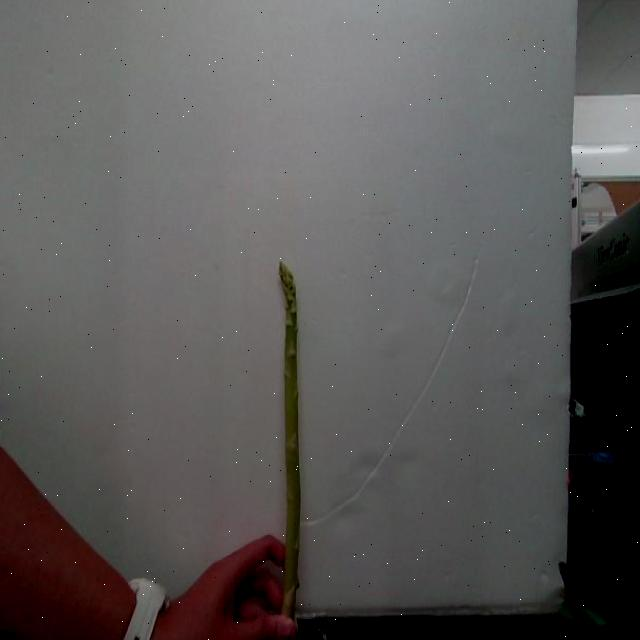aspargus: (282, 264, 303, 621)
